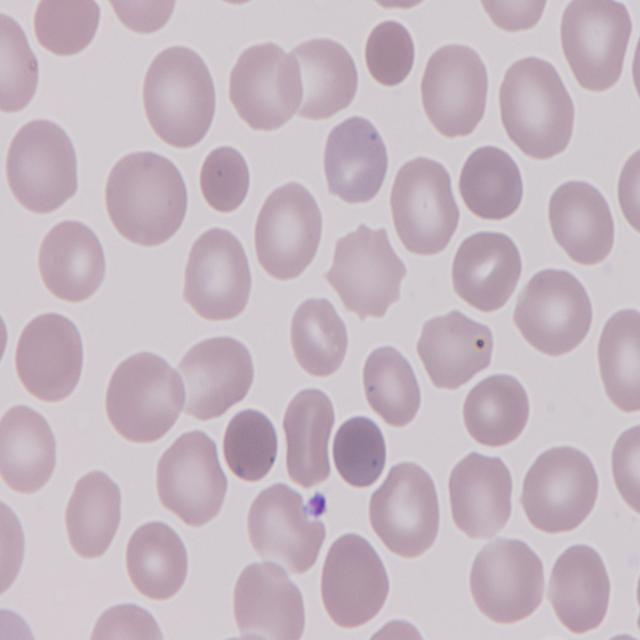RBC: (104, 152, 191, 252), (139, 44, 221, 150), (496, 58, 578, 160), (386, 156, 463, 262), (104, 348, 188, 444), (254, 178, 328, 286), (1, 114, 79, 216), (518, 443, 602, 536), (512, 267, 596, 359), (466, 534, 548, 628), (367, 464, 445, 562), (226, 36, 302, 134), (560, 0, 638, 94), (420, 40, 494, 139), (330, 222, 406, 318), (181, 227, 253, 328), (318, 531, 392, 629), (154, 432, 228, 528), (12, 311, 87, 404), (178, 334, 258, 421), (444, 450, 516, 544), (418, 310, 498, 393), (320, 114, 392, 206), (246, 478, 318, 570), (449, 228, 524, 316), (39, 214, 111, 304), (544, 539, 612, 632), (232, 560, 310, 640), (548, 180, 616, 270), (286, 42, 361, 123), (461, 370, 537, 448), (280, 384, 333, 494), (0, 405, 63, 497), (63, 467, 125, 560), (123, 518, 191, 602), (288, 295, 353, 382), (360, 343, 425, 430), (458, 143, 526, 224), (594, 303, 640, 415), (27, 0, 106, 63), (0, 7, 42, 116), (606, 420, 640, 517), (85, 603, 170, 640), (0, 496, 29, 602), (102, 1, 182, 38), (476, 0, 557, 35), (613, 144, 640, 244), (0, 610, 39, 640)
Spherocyte: (220, 408, 282, 486), (329, 412, 388, 493), (359, 17, 417, 91), (198, 142, 254, 216)
